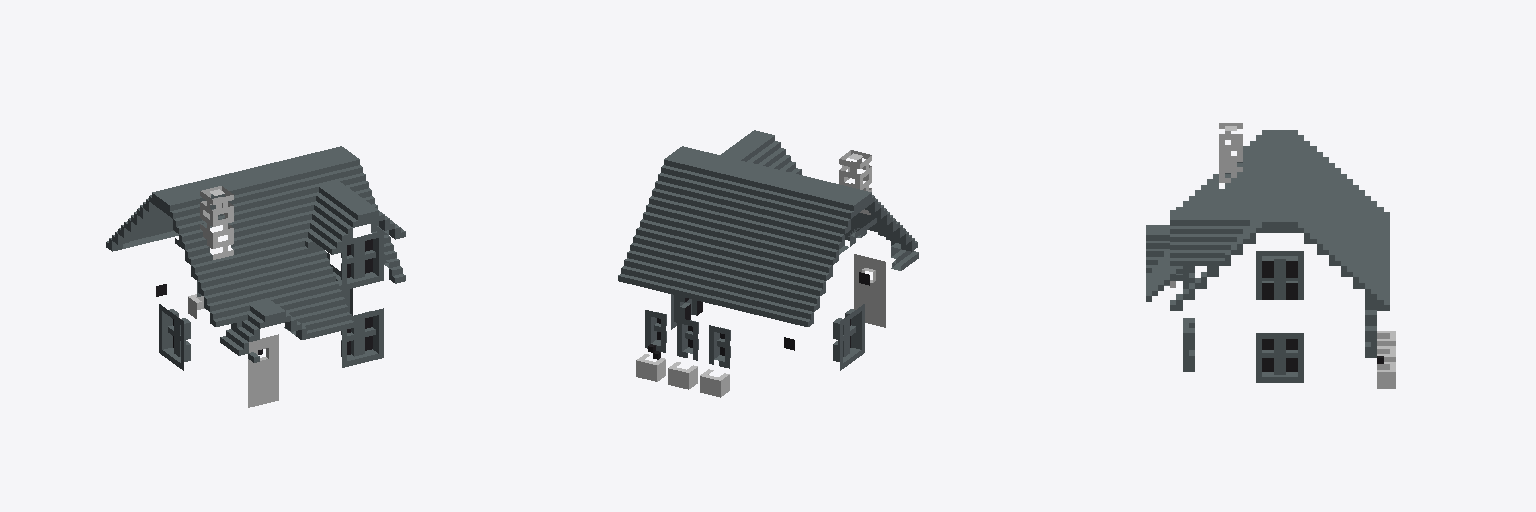
3 views of the same model, side by side, from view 1: azimuth 30°, elevation 25°; view 2: azimuth 150°, elevation 25°; view 3: azimuth 270°, elevation 25° (orthographic).
Visible parts, largest first — view 1: meatballs1; view 2: meatballs1; view 3: meatballs1.
Part boxes in pixels (x1,y1,x2,y2): meatballs1: (106,146,405,407); meatballs1: (618,130,918,397); meatballs1: (1146,123,1395,388).
Bounding box in the file's own units: 48 × 37 × 48.
Materials: 1 (1 with a texture image).